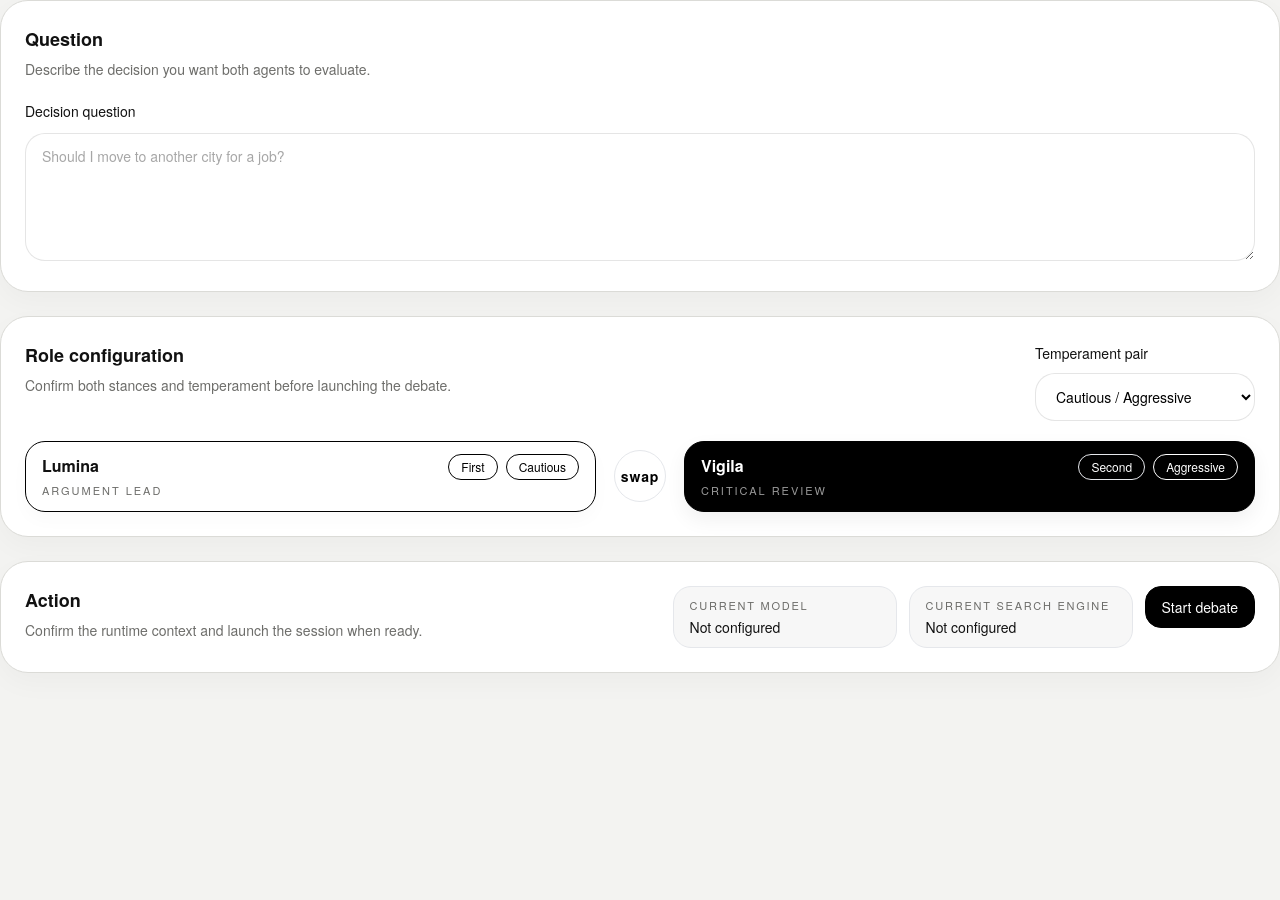
it: SessionShell › shows the combined start error when create-session fails
In the text box labelled "Decision question": (640, 197) x1=25 y1=133 x2=1255 y2=261, type "Should I move to another city?"
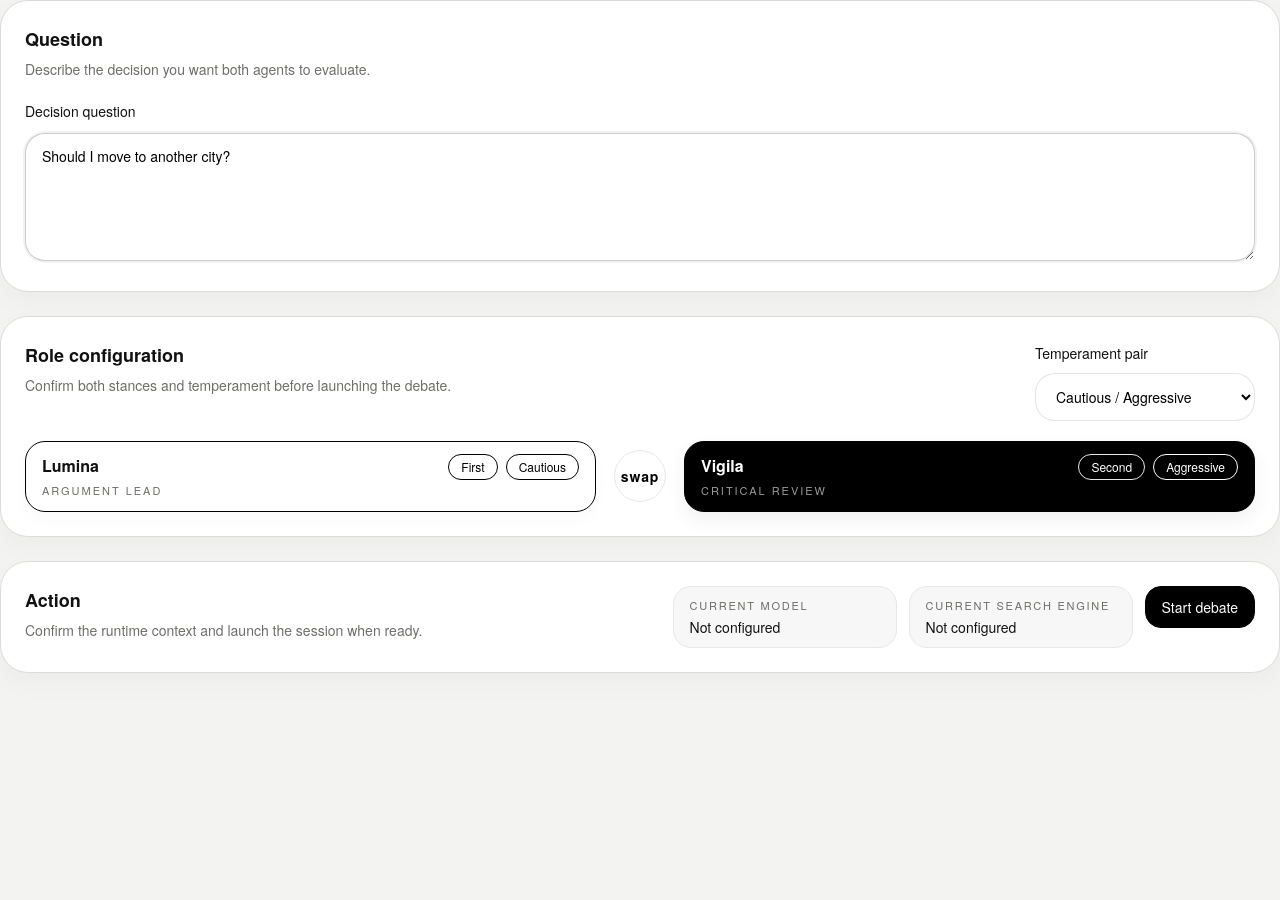
Click the button "Start debate": (1200, 606) x1=1145 y1=586 x2=1255 y2=628
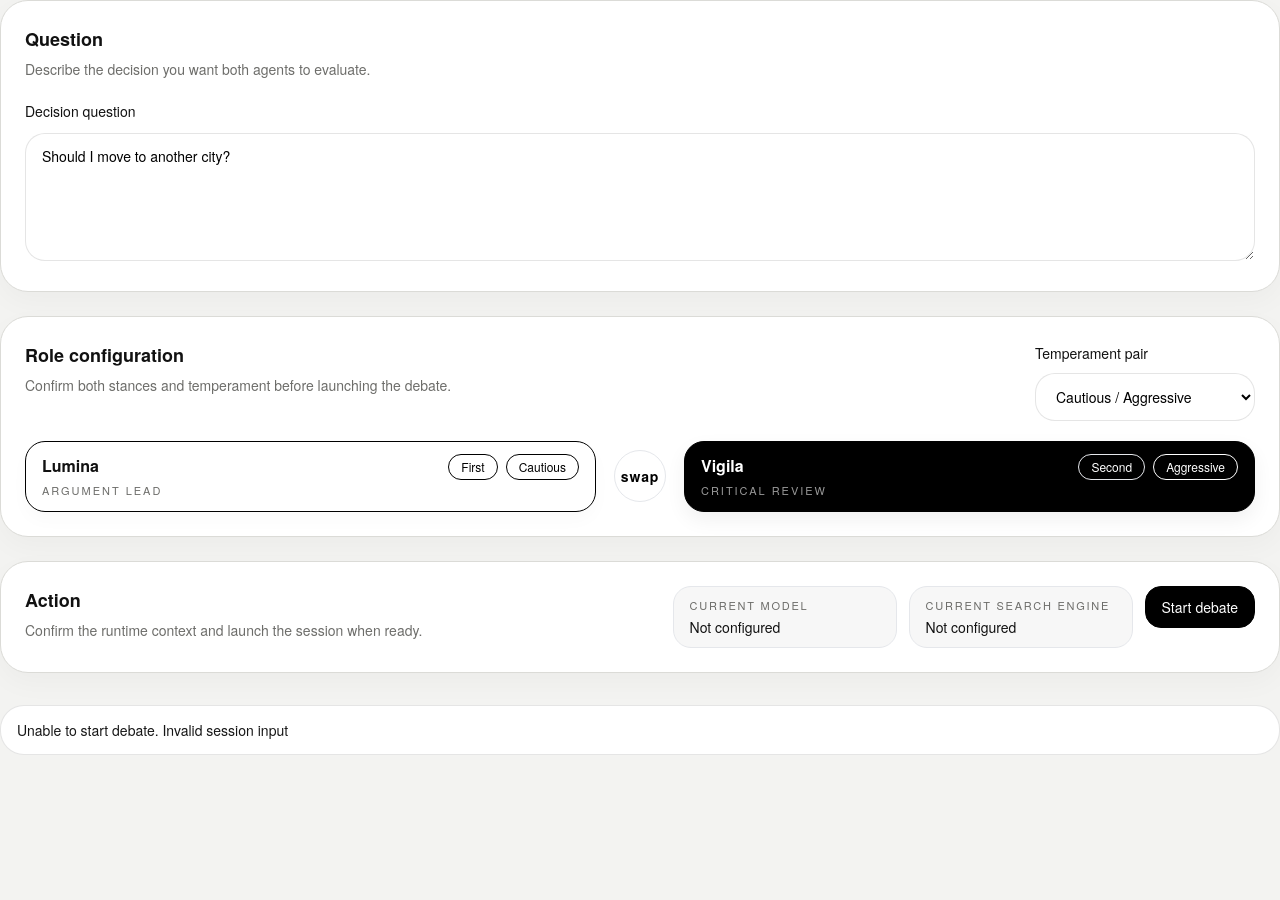
Expected: the message reads "Unable to start debate. Invalid session input", x1=17 y1=720 x2=288 y2=740
